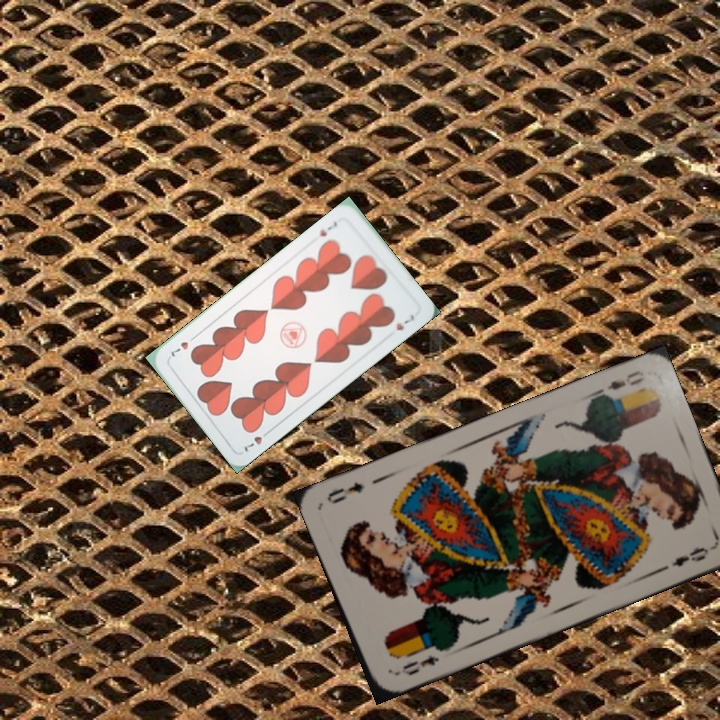EO: (591, 366, 647, 402), (391, 650, 442, 679)
H7: (240, 425, 273, 455), (315, 217, 340, 239)
